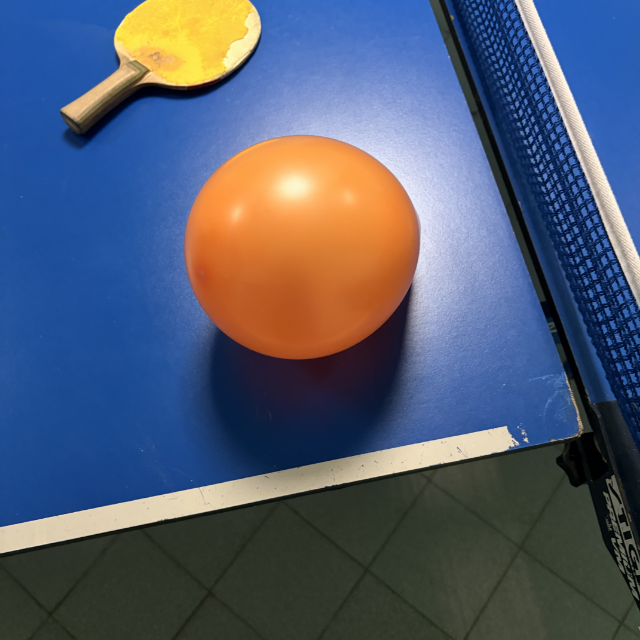balloon: (183, 134, 421, 360)
